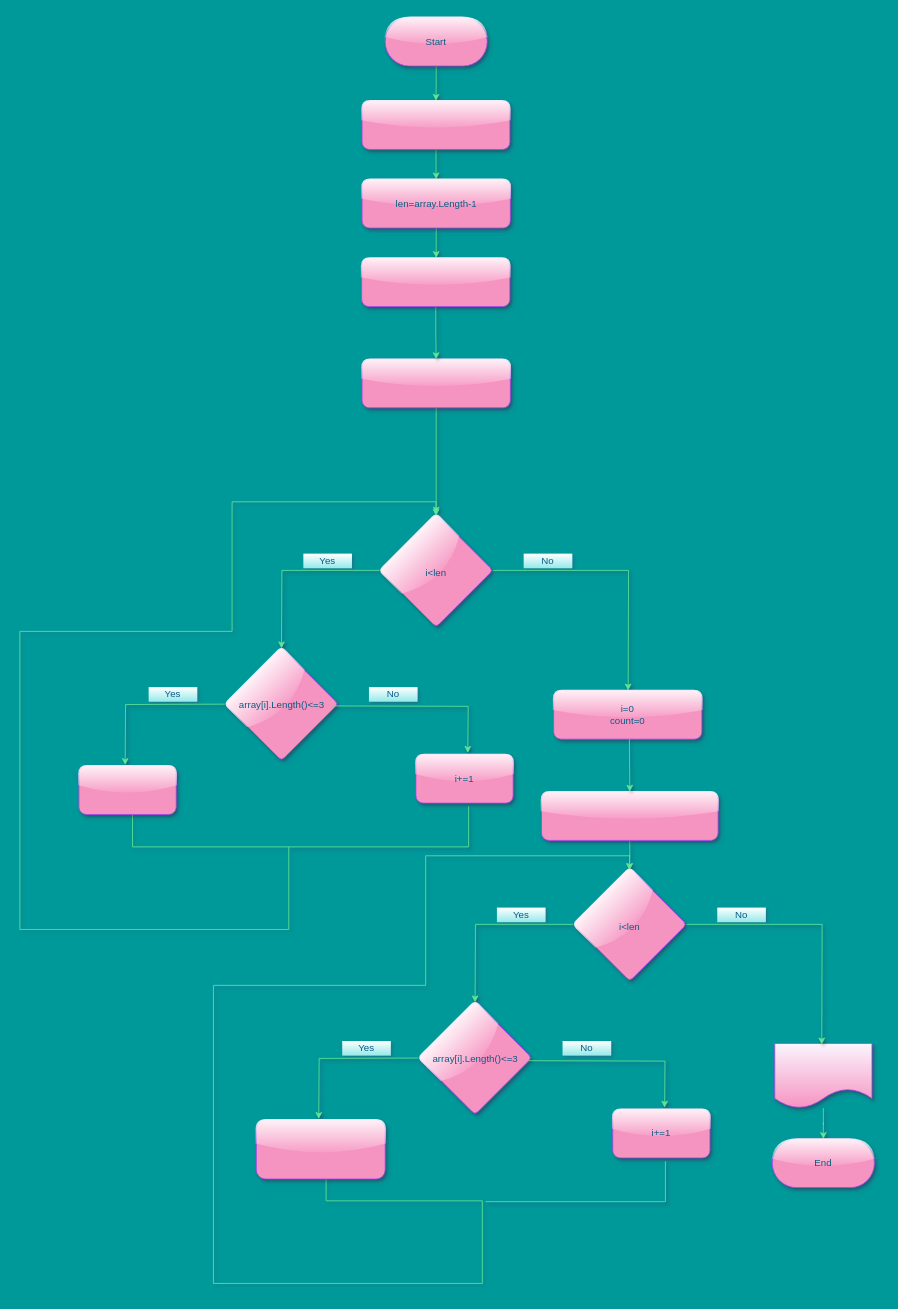
Some shapes in this 898 by 1309 pixel diagram are drawn without their labels. Each missing label, with the centre of its shape:
"array=[ “Hello”, “2”, “world”, “:-)” ]" belongs at pixel 436 126.
"count+=1 i+=1" belongs at pixel 128 791.
"count=0" belongs at pixel 436 384.
"i=0" belongs at pixel 436 283.
"new_array" belongs at pixel 824 1076.
"new_array=[]" belongs at pixel 630 817.
"new_array[count]=array[i] count+=1 i+=1" belongs at pixel 321 1150.
